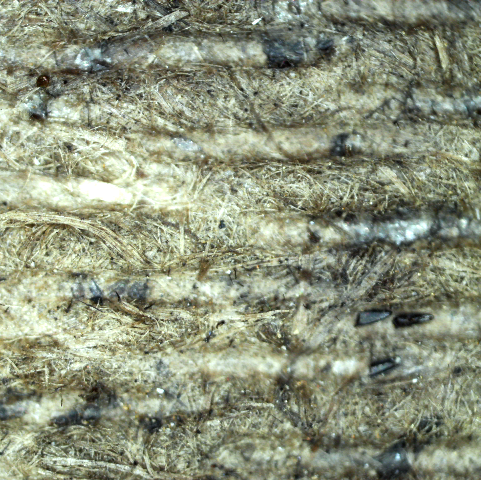ovo: (355, 354, 403, 385), (396, 304, 435, 335), (351, 307, 394, 327)
